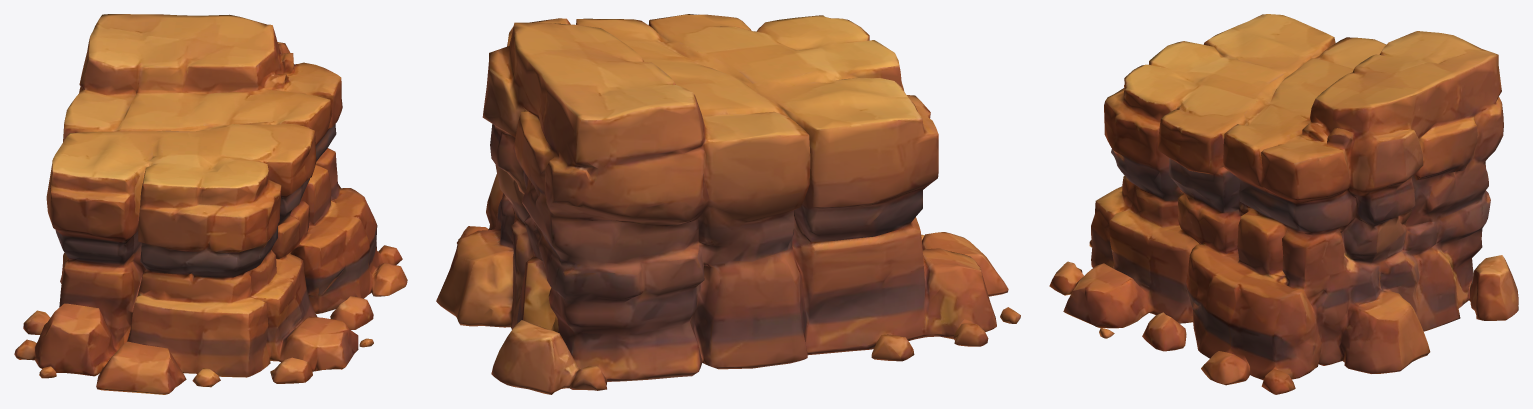
Rendered from landmark_mesa.glb.
The picture shows the model from 3 angles, left to right: view 1: azimuth 30°, elevation 25°; view 2: azimuth 150°, elevation 25°; view 3: azimuth 270°, elevation 25°; orthographic projection. The views are drawn at different scales.
Visible parts, largest first — view 1: BakeLow; view 2: BakeLow; view 3: BakeLow.
Part boxes in pixels (x1,y1,x2,y2): BakeLow: [14, 14, 407, 394]; BakeLow: [436, 14, 1020, 394]; BakeLow: [1049, 14, 1518, 394].
Size of the model in its own units: 0.9035 by 0.4886 by 0.8488.
Materials: 1 (1 with a texture image).
